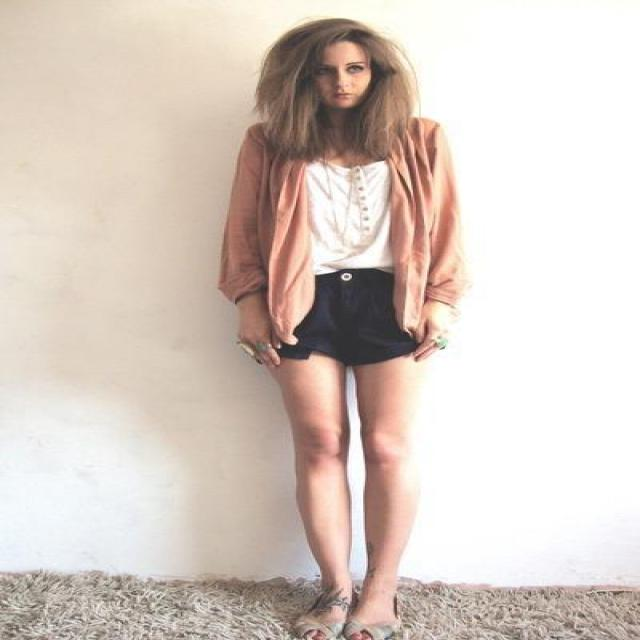jacket: (219, 116, 461, 344)
shirt: (304, 161, 392, 277)
shoe: (306, 576, 400, 639)
shorts: (275, 267, 427, 370)
